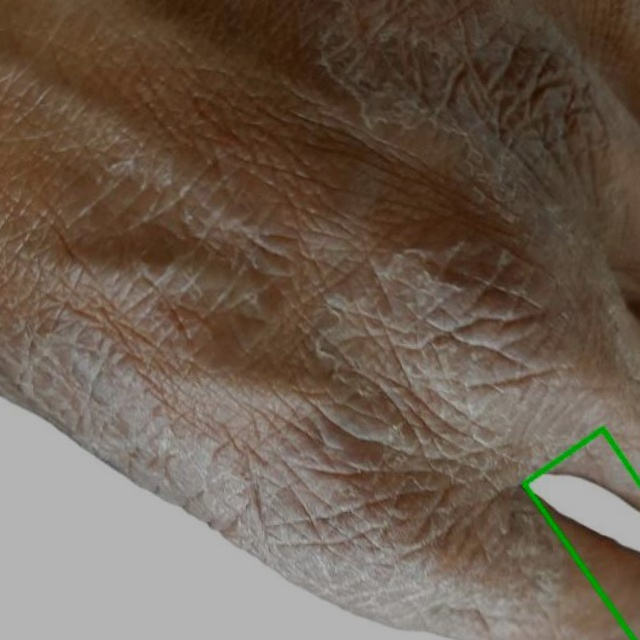Contact Dermatitis: (515, 428, 639, 639)
